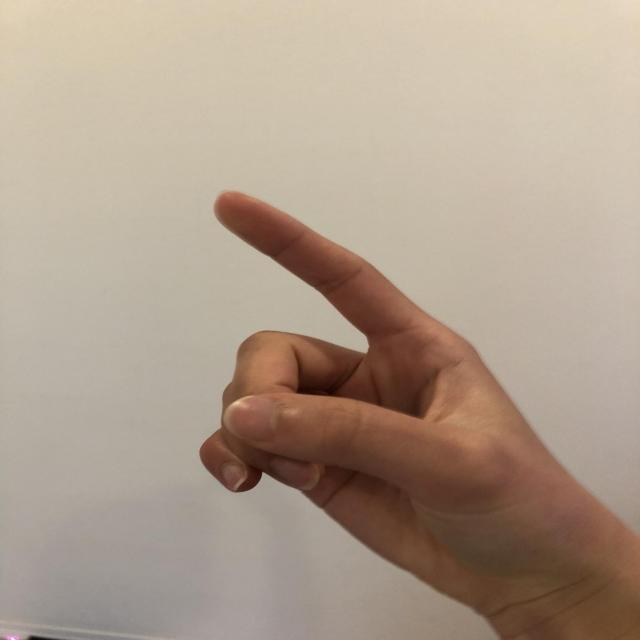Z: (158, 177, 628, 614)
